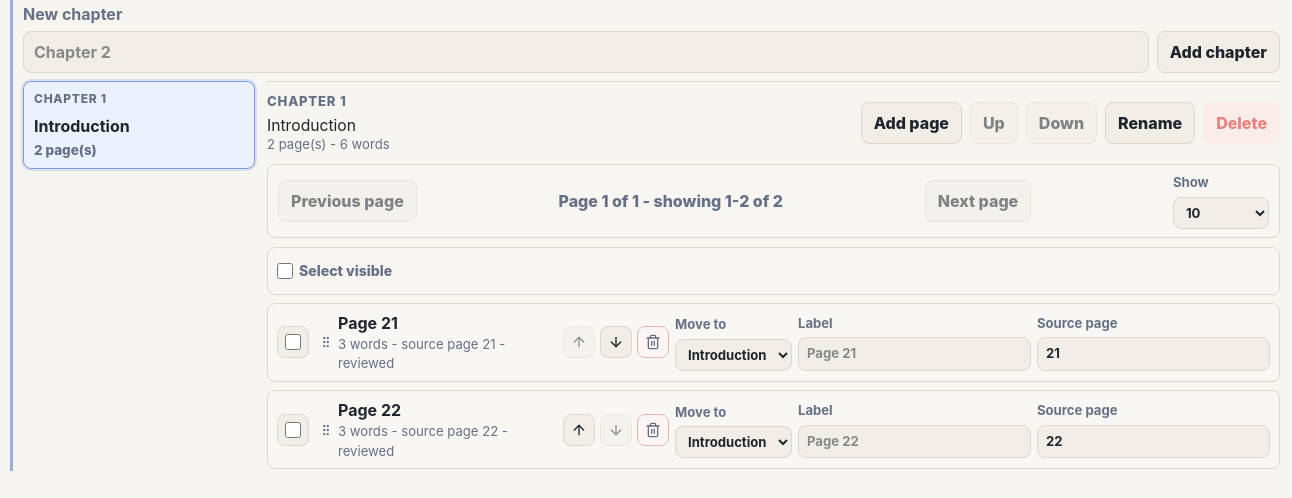
Test case: DocumentOrganizer › does not open page details when selecting a page checkbox
Step 1. Click the checkbox named "Select Page 22" → point(293, 430), box [285,422,301,438]
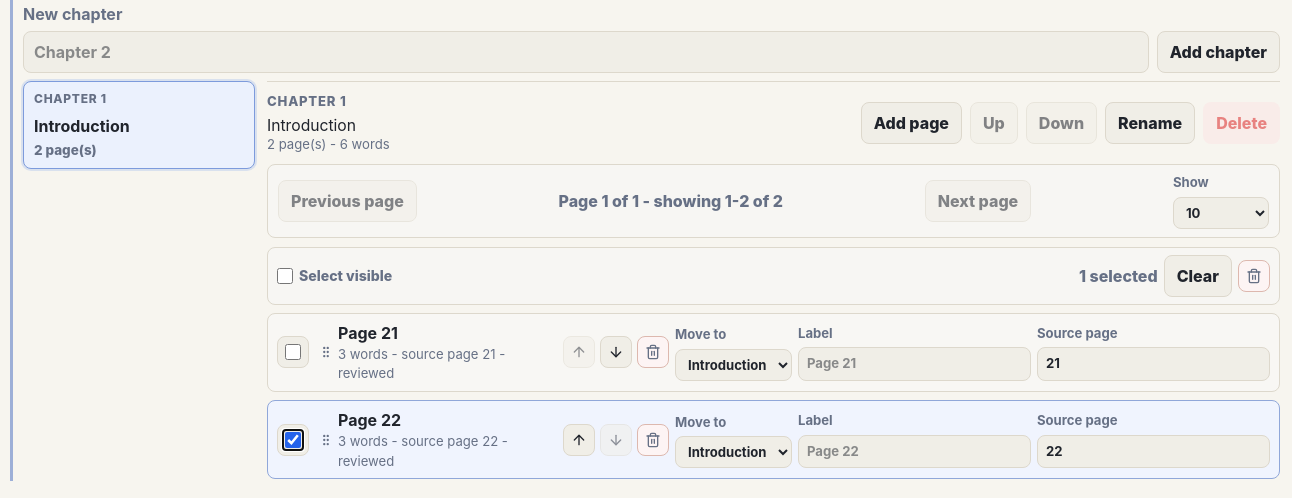
Expected: the text "1 selected" is shown, [1079,264,1158,288]
